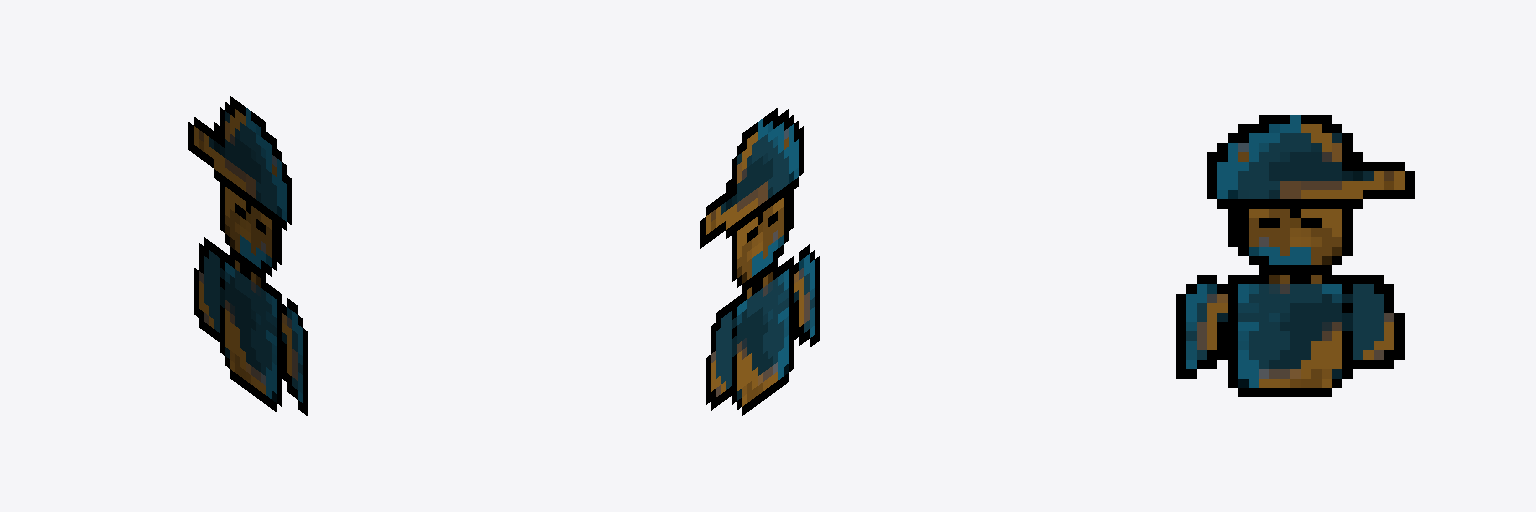
3 views of the same model, side by side, from view 1: azimuth 30°, elevation 25°; view 2: azimuth 150°, elevation 25°; view 3: azimuth 270°, elevation 25° (orthographic).
Parts seen in each view (by area): view 1: robot_sprite; view 2: robot_sprite; view 3: robot_sprite.
Boxes of the visible parts, x1,y1,x2,y2 form: robot_sprite: [188, 96, 307, 415]; robot_sprite: [700, 108, 819, 415]; robot_sprite: [1176, 115, 1414, 396].
Bounding box in the file's own units: 0 × 1 × 1.
1 materials, 1 textured.